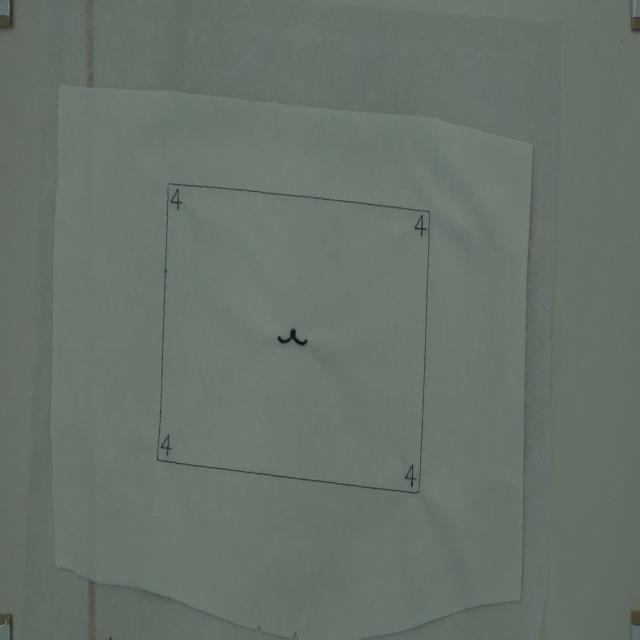4 -: (411, 212, 429, 242), (168, 185, 184, 214), (159, 431, 175, 459), (402, 462, 418, 486)
